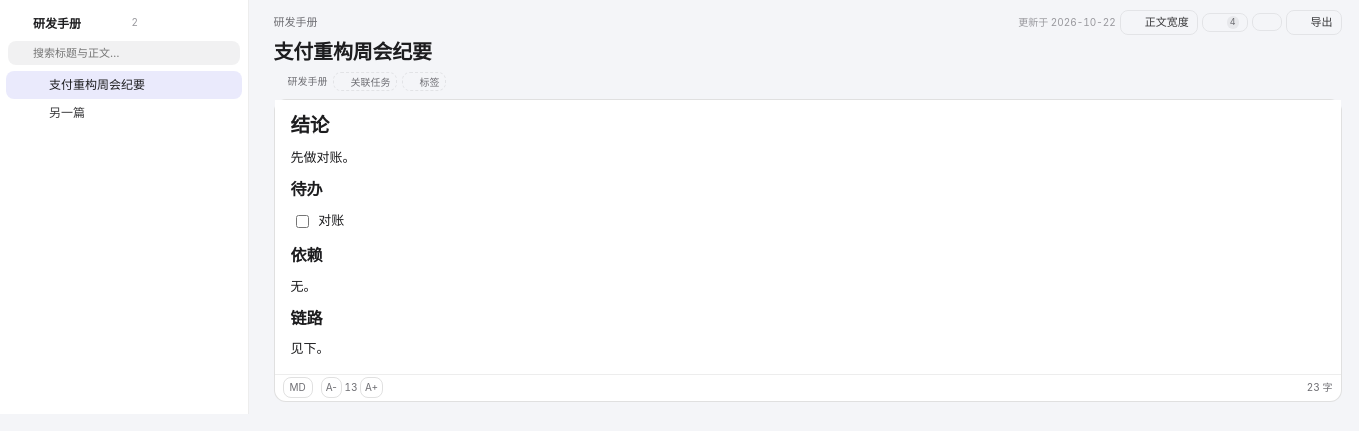
Scenario: T73 · 大纲栏：计数徽标 + 宽屏自动展开 › 没有标题的文档不显示徽标（0 没有信息量）
Click the list item with test id "doc-row-d2": (58, 112) [32,105,85,120]
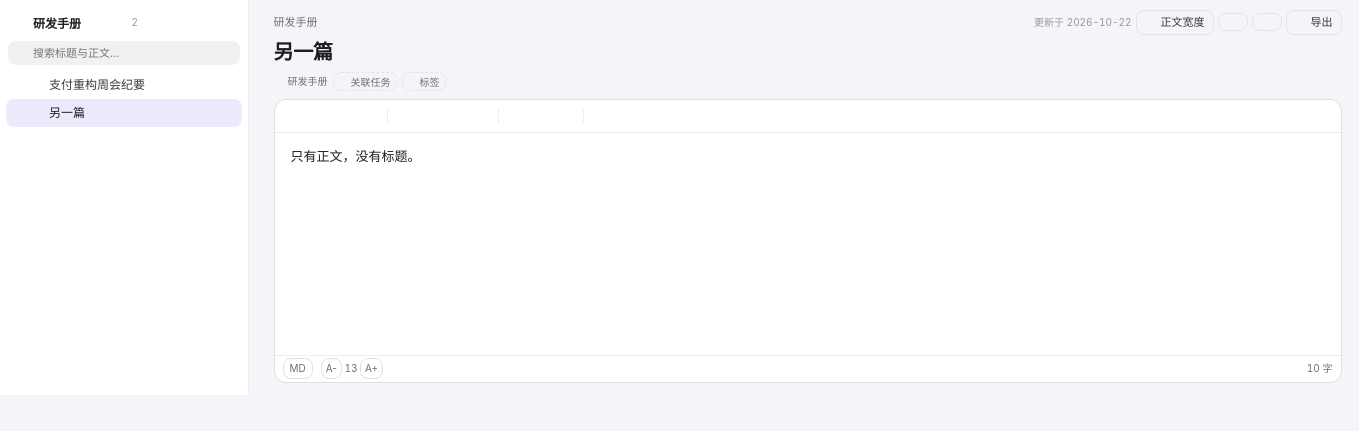
Result: the text with test id "notebook-outline-count" is gone
